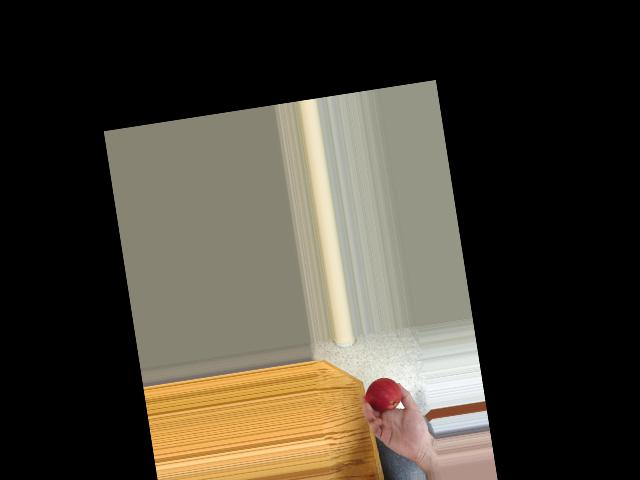apple: (361, 374, 405, 414)
